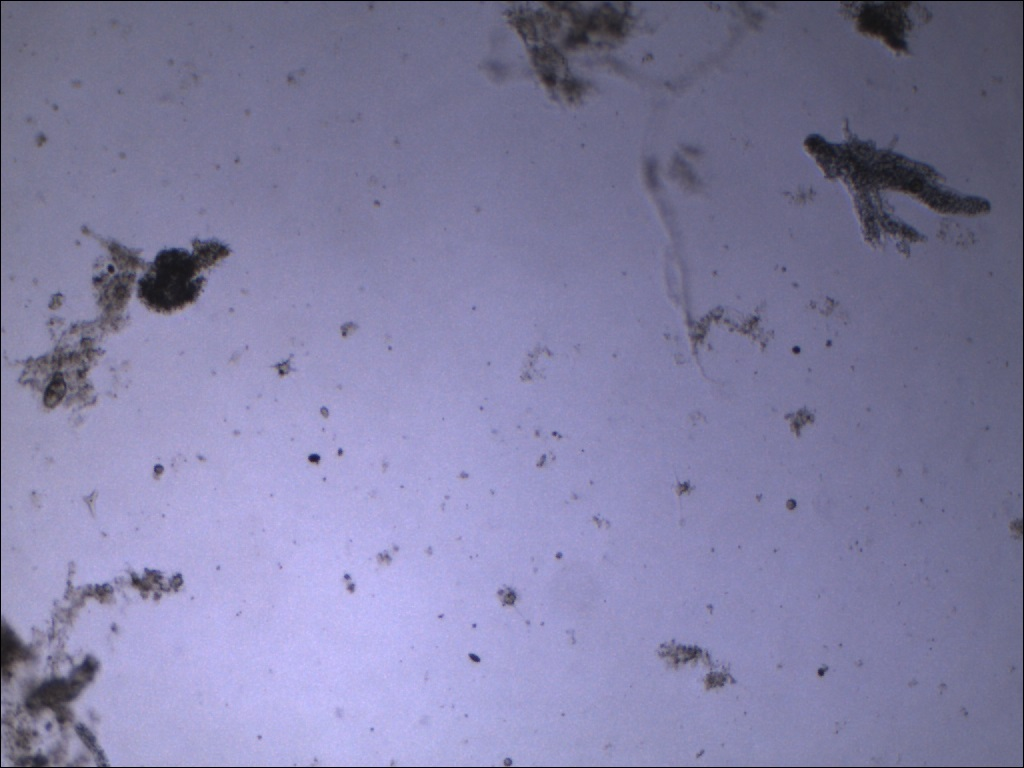amoeba: (796, 113, 996, 259), (131, 232, 238, 320)
